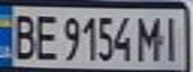1: (78, 12, 96, 62)
4: (112, 12, 136, 62)
5: (97, 12, 118, 62)
9: (60, 12, 81, 62)
B: (6, 10, 39, 61)
E: (30, 11, 60, 62)
I: (157, 12, 187, 62)
M: (133, 12, 166, 62)
